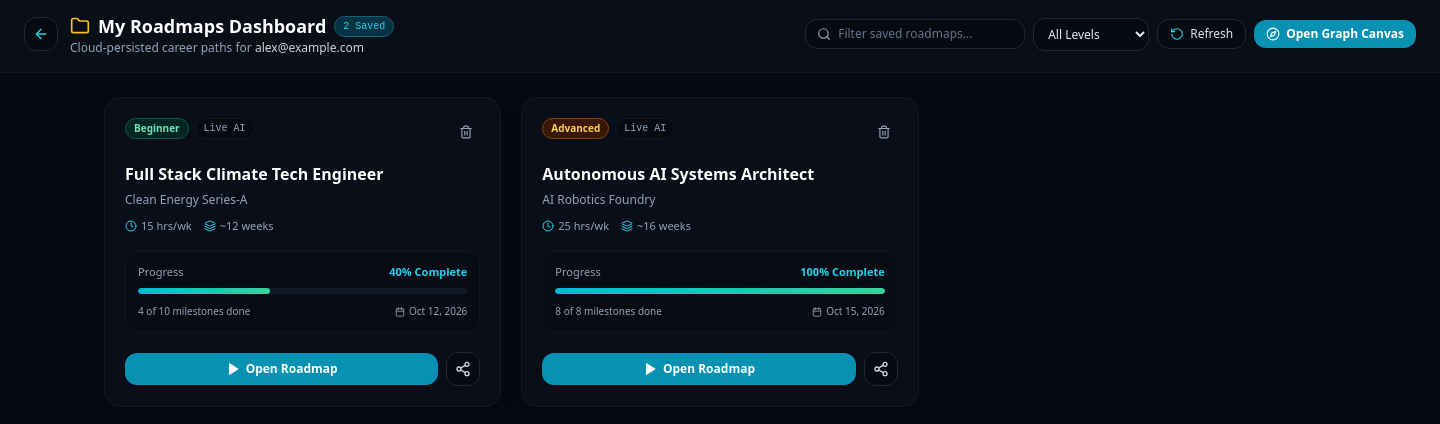
Test case: Phase 10 — My Roadmaps Dashboard Tests › filters saved roadmaps by experience level
Select "Advanced" in the dropdown at (1091, 34), box [1033, 18, 1149, 50]
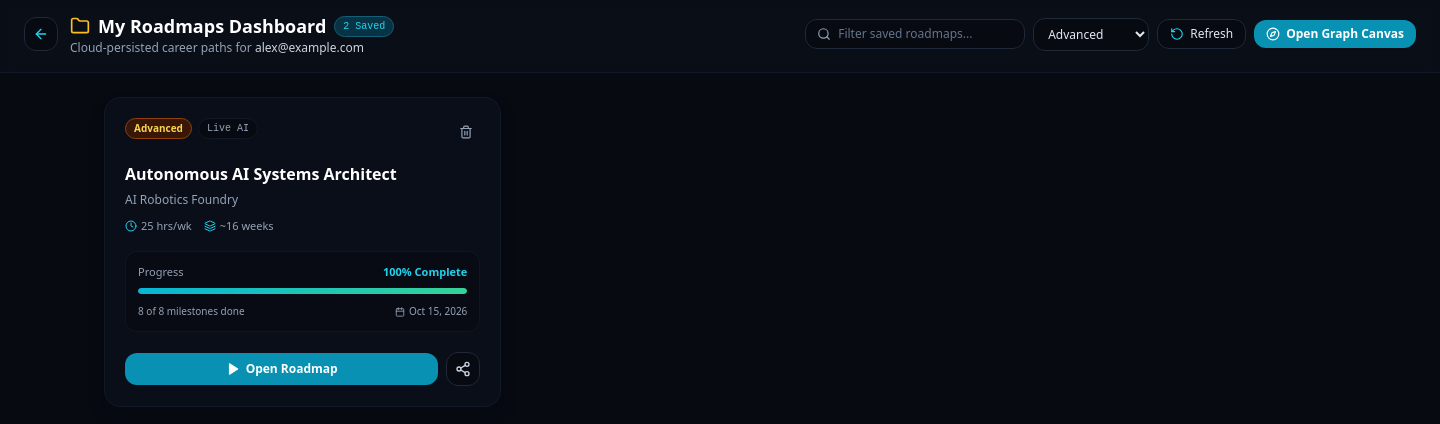
Expected: the heading "Autonomous AI Systems Architect" is shown, [125, 163, 397, 185]
Expected: the heading "Full Stack Climate Tech Engineer" is gone
